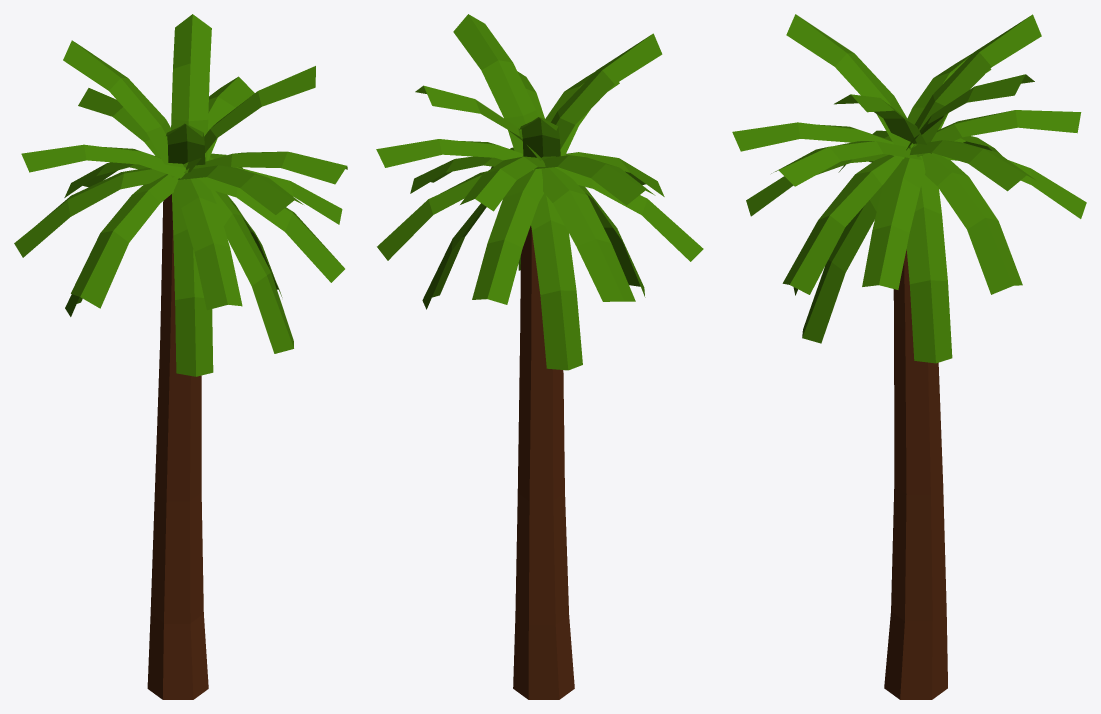
The model's file is PalmTree3.fbx.
The picture shows the model from 3 angles, left to right: view 1: azimuth 30°, elevation 25°; view 2: azimuth 150°, elevation 25°; view 3: azimuth 270°, elevation 25°; orthographic projection. The views are drawn at different scales.
Visible parts, largest first — view 1: Cylinder; view 2: Cylinder; view 3: Cylinder.
Boxes of the visible parts, box(x1,y1,x2,y2) form: Cylinder: box(14, 14, 347, 699); Cylinder: box(376, 14, 703, 699); Cylinder: box(732, 14, 1086, 699).
Bounding box in the file's own units: 4.44 × 9.51 × 4.72.
